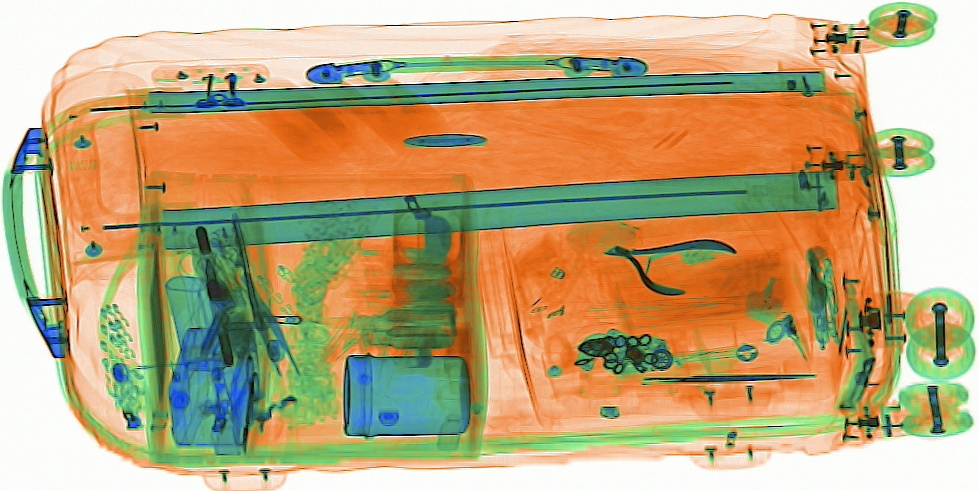scissors: (598, 357, 821, 404)
